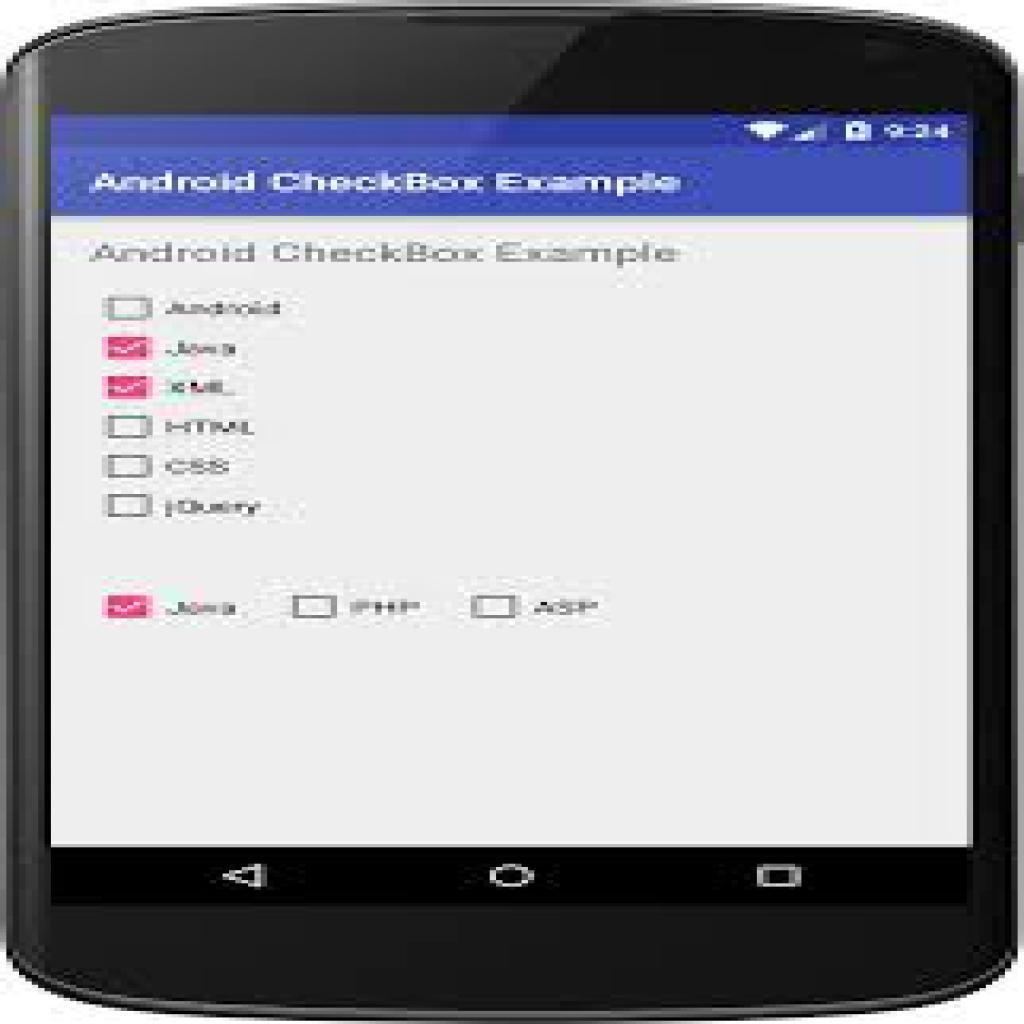checkbox: (104, 374, 154, 404), (107, 592, 153, 620), (291, 594, 338, 619), (108, 494, 153, 519), (107, 298, 155, 321), (472, 595, 518, 618), (108, 337, 152, 361), (108, 454, 152, 478), (108, 415, 150, 439)
